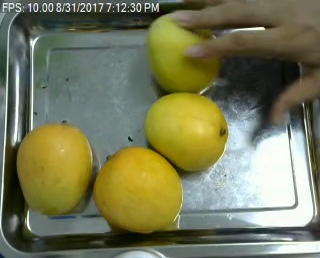Mango: (95, 143, 183, 233), (145, 90, 232, 174), (18, 123, 97, 215), (142, 10, 226, 92)
